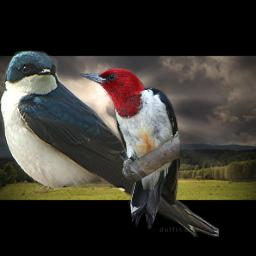Swallow: (0, 50, 219, 237)
Woodpecker: (78, 67, 180, 229)
